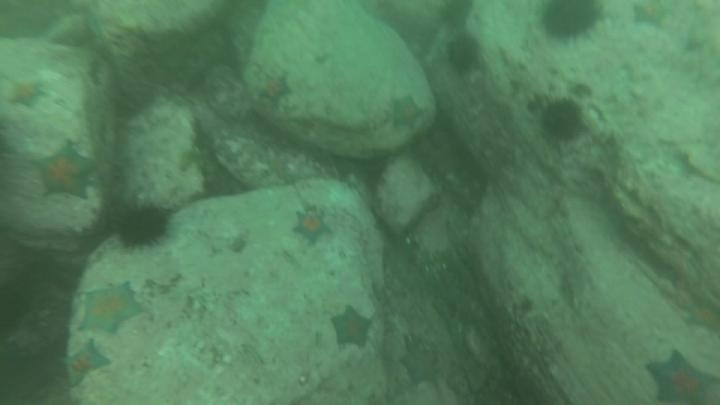echinus: (537, 1, 605, 46), (113, 202, 173, 252), (538, 97, 586, 144), (443, 33, 483, 76), (436, 0, 477, 31)
starfish: (643, 348, 718, 405), (31, 140, 98, 202), (76, 280, 147, 338), (61, 337, 113, 389), (397, 340, 445, 390), (328, 304, 375, 351), (289, 206, 335, 247), (385, 93, 427, 134), (681, 296, 720, 337), (253, 70, 294, 108), (5, 76, 49, 110), (628, 1, 673, 32)
